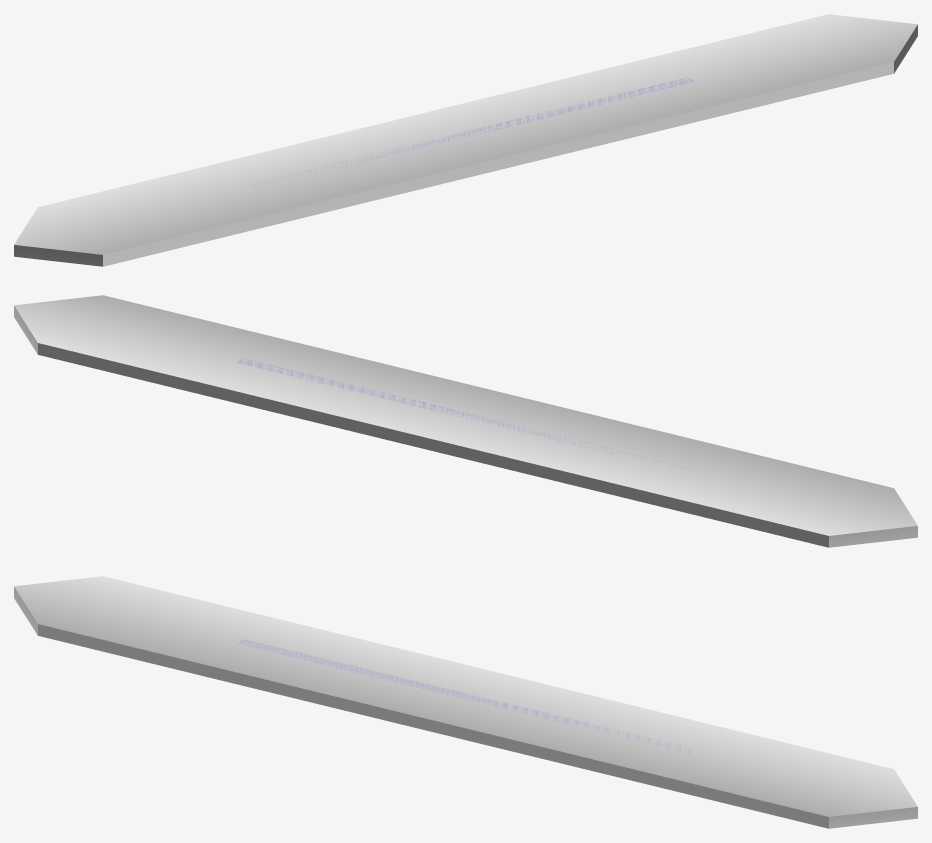
Rendered from tapnote.glb.
3 renders of one model, top to bottom at view 1: azimuth 30°, elevation 25°; view 2: azimuth 150°, elevation 25°; view 3: azimuth 330°, elevation 25°, orthographic.
Visible parts, largest first — view 1: note, line; view 2: note, line; view 3: note, line.
Part boxes in pixels (left/top/right/bottom): note: left=14, top=14, right=917, bottom=266; line: left=239, top=77, right=694, bottom=188; note: left=14, top=295, right=917, bottom=547; line: left=237, top=358, right=694, bottom=470; note: left=14, top=576, right=917, bottom=828; line: left=237, top=639, right=691, bottom=753.
Size of the model in its own units: 4 by 0.05 by 0.5.
2 materials, 1 textured.
